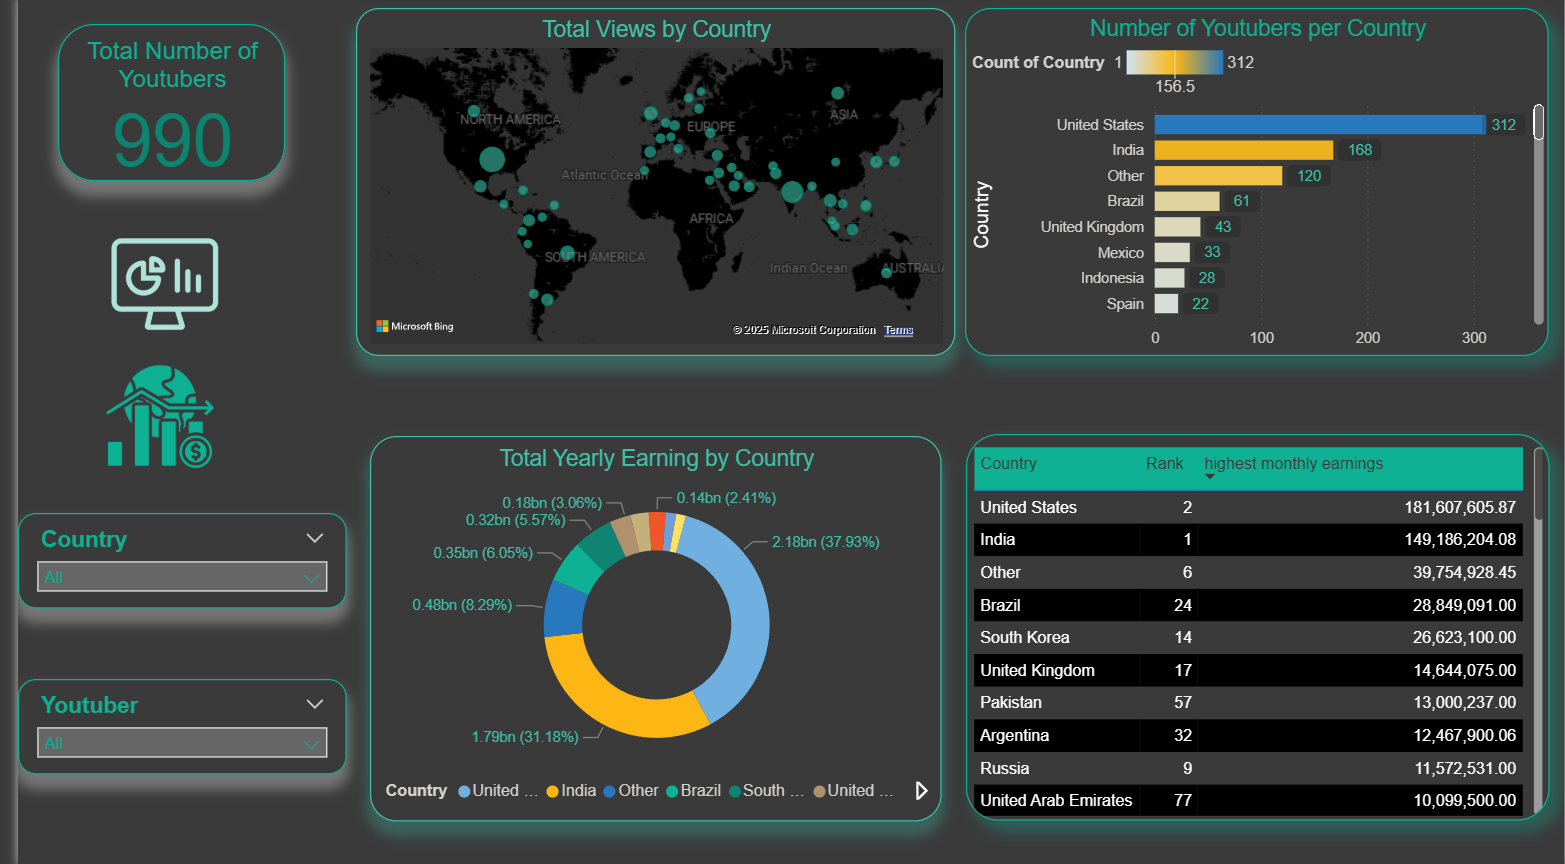

This screenshot's page, from the dashboard's own definition file:
{"tool":"powerbi","page":{"name":"Overview","canvas":[1280,720],"ordinal":0},"visuals":[{"type":"map","title":"Total Views by Country","fields":{"Y":["Global YouTube Statistics.Latitude"],"X":["Global YouTube Statistics.Longitude"],"Size":["Global YouTube Statistics.video views"]},"box":[279.9,9.7,495.7,287.7],"z":0},{"type":"donutChart","title":"Total Yearly Earning  by Country","fields":{"Category":["Global YouTube Statistics.Country"],"Y":["Global YouTube Statistics.highest_yearly_earnings"]},"box":[291.1,363.9,472.5,319],"z":1000},{"type":"clusteredBarChart","title":"Number of Youtubers per Country","fields":{"Category":["Global YouTube Statistics.Country"],"Y":["Global YouTube Statistics.Youtuber"]},"box":[784.1,9.7,482.9,288],"z":2000},{"type":"card","title":"Total Number of Youtubers","fields":{"Values":["Global YouTube Statistics.Youtuber"]},"box":[33,23.3,187.6,130.2],"z":3000},{"type":"tableEx","fields":{"Values":["Distinct countries.Country","Distinct countries.Rank","Distinct countries.highest monthly earnings"]},"box":[784.5,362.9,483.5,320],"z":4000},{"type":"image","box":[45.3,180.4,152.5,116.5],"z":5000},{"type":"image","box":[45.3,296.8,143.3,102],"z":6000},{"type":"slicer","fields":{"Values":["Global YouTube Statistics.Country"]},"box":[0,428.2,271.5,78.9],"z":8000},{"type":"slicer","fields":{"Values":["Global YouTube Statistics.Youtuber"]},"box":[0,565.6,271.5,78.9],"z":9000}]}

Visuals, with their boxes in screenshot pixels (x1, y1, x2, y2), scaled from the page's 1280x720 canvas onto the 1565x864 screenshot:
"Total Views by Country" map: bbox=[342, 12, 948, 357]
"Total Yearly Earning  by Country" donutChart: bbox=[356, 437, 934, 819]
"Number of Youtubers per Country" clusteredBarChart: bbox=[959, 12, 1549, 357]
"Total Number of Youtubers" card: bbox=[40, 28, 270, 184]
tableEx - Distinct countries.Country x Distinct countries.Rank: bbox=[959, 435, 1550, 819]
image: bbox=[55, 216, 242, 356]
image: bbox=[55, 356, 231, 479]
slicer - Global YouTube Statistics.Country: bbox=[0, 514, 332, 609]
slicer - Global YouTube Statistics.Youtuber: bbox=[0, 679, 332, 773]
